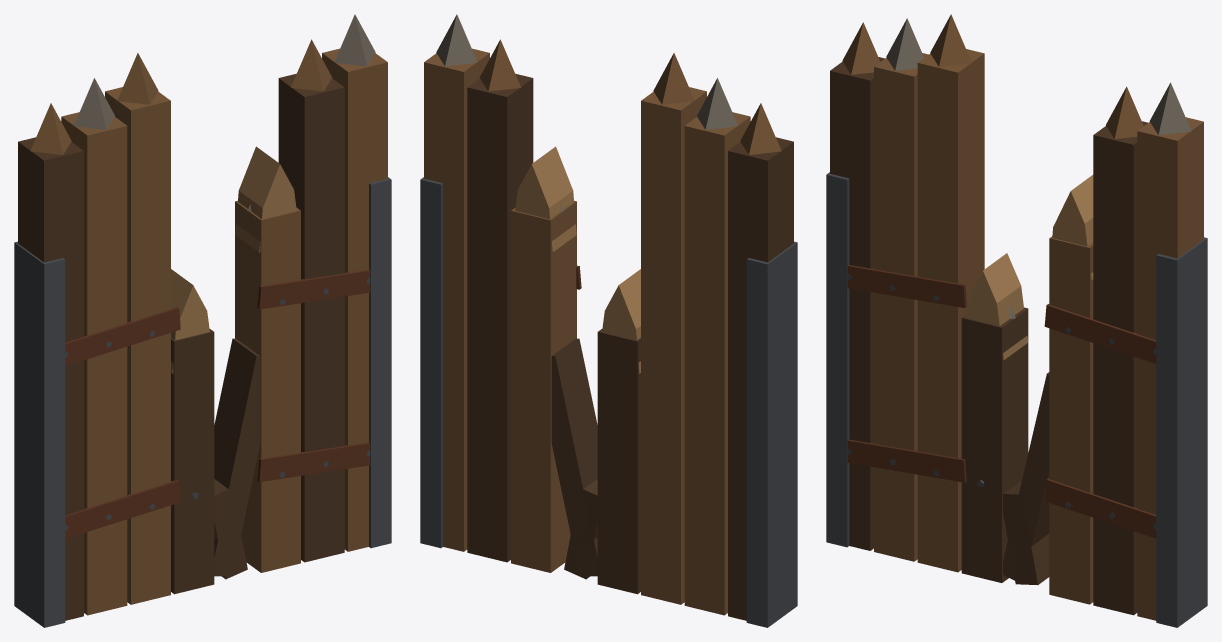
The model's file is piece_palisade_critical.fbx.
The picture shows the model from 3 angles, left to right: view 1: azimuth 30°, elevation 25°; view 2: azimuth 150°, elevation 25°; view 3: azimuth 330°, elevation 25°; orthographic projection.
Parts seen in each view (by area): view 1: piece_palisade_critical; view 2: piece_palisade_critical; view 3: piece_palisade_critical.
Boxes of the visible parts, box(x1,y1,x2,y2) form: piece_palisade_critical: box(14, 14, 391, 627); piece_palisade_critical: box(420, 14, 797, 627); piece_palisade_critical: box(826, 14, 1207, 627).
Bounding box in the file's own units: 2 × 2.96 × 0.3.
